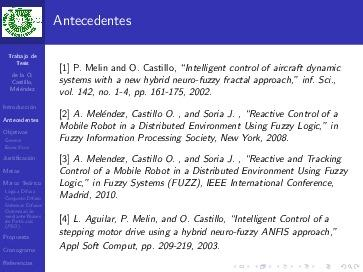paragraph: (51, 54, 355, 264)
title: (51, 10, 138, 35)
